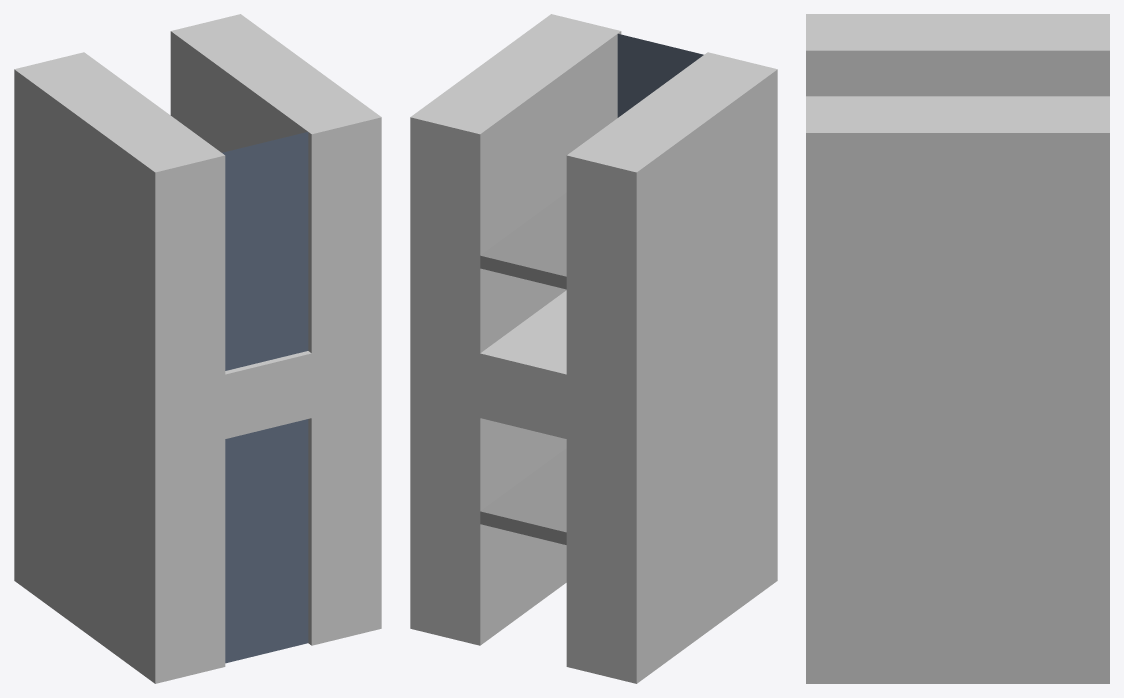
3 renders of one model, left to right at view 1: azimuth 30°, elevation 25°; view 2: azimuth 150°, elevation 25°; view 3: azimuth 270°, elevation 25°, orthographic. The views are drawn at different scales.
Parts seen in each view (by area): view 1: letter, window.001, window.003, window.002, window; view 2: letter, floor, floor.001, window.003, window; view 3: letter.
Part boxes in pixels (box(x1,y1,x2,y2)): letter: box(14, 14, 381, 683); window.001: box(265, 419, 308, 653); window.003: box(265, 132, 308, 361); window.002: box(225, 429, 264, 663); window: box(222, 142, 264, 370); letter: box(410, 14, 777, 683); floor: box(480, 192, 566, 289); floor.001: box(480, 448, 566, 544); window.003: box(617, 34, 660, 117); window: box(661, 44, 703, 85); letter: box(806, 14, 1109, 683).
Size of the model in its own units: 7.42 by 16 by 8.
